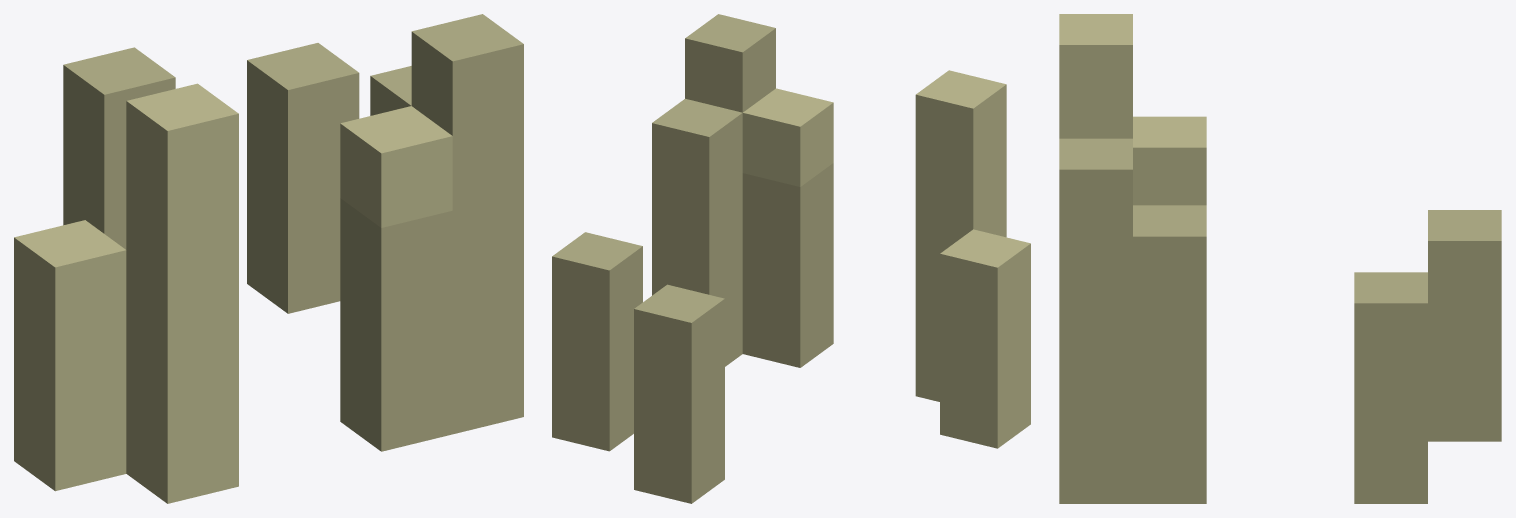
File: barron_01.glb
3 views of the same model, side by side, from view 1: azimuth 30°, elevation 25°; view 2: azimuth 150°, elevation 25°; view 3: azimuth 270°, elevation 25° (orthographic). The views are drawn at different scales.
Visible parts, largest first — view 1: barron_01; view 2: barron_01; view 3: barron_01.
Part boxes in pixels (x1=…): barron_01: x1=14, y1=14, x2=523, y2=503; barron_01: x1=552, y1=14, x2=1030, y2=503; barron_01: x1=1059, y1=14, x2=1501, y2=503.
Bounding box in the file's own units: 0.6 × 0.5 × 0.6.
